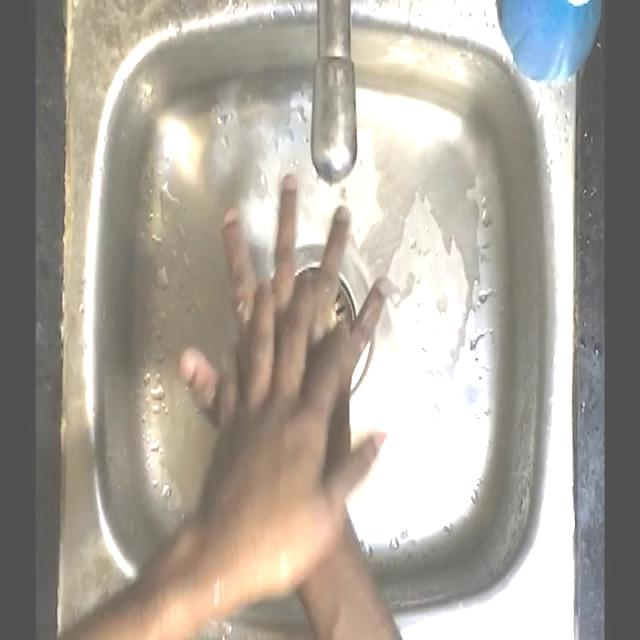step_2: (175, 162, 402, 506)
